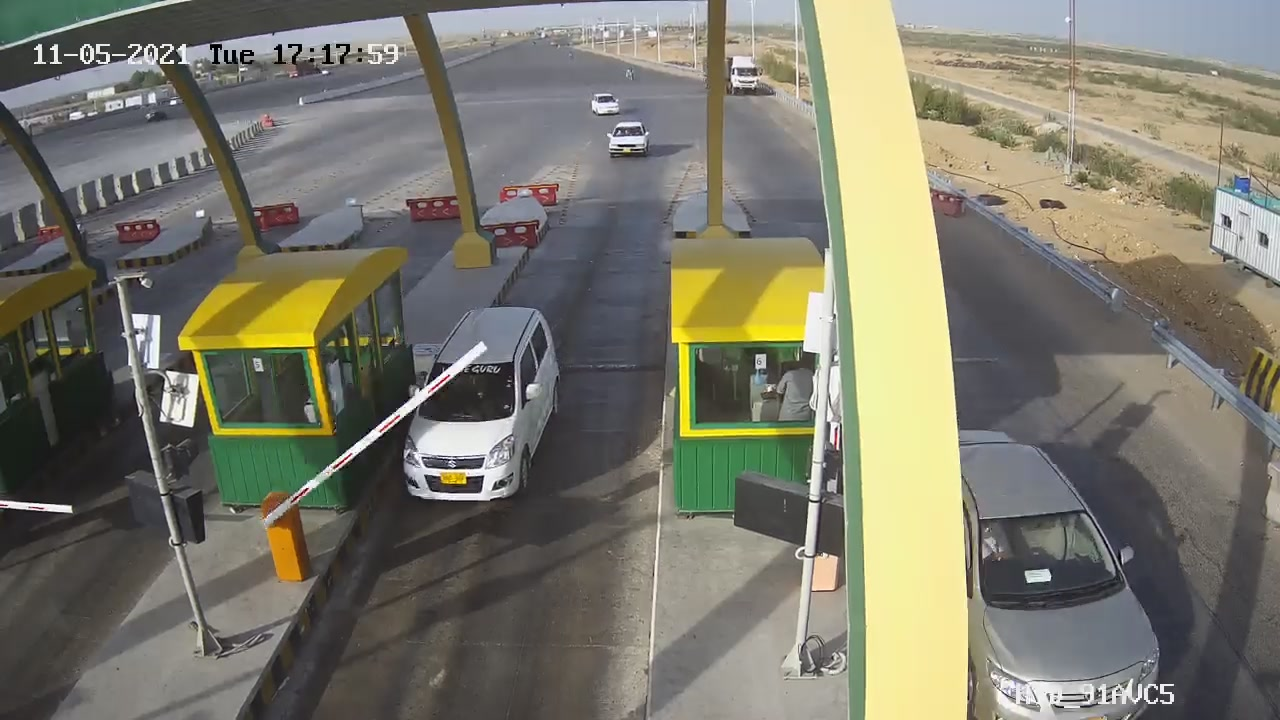F1: (390, 295, 576, 514)
